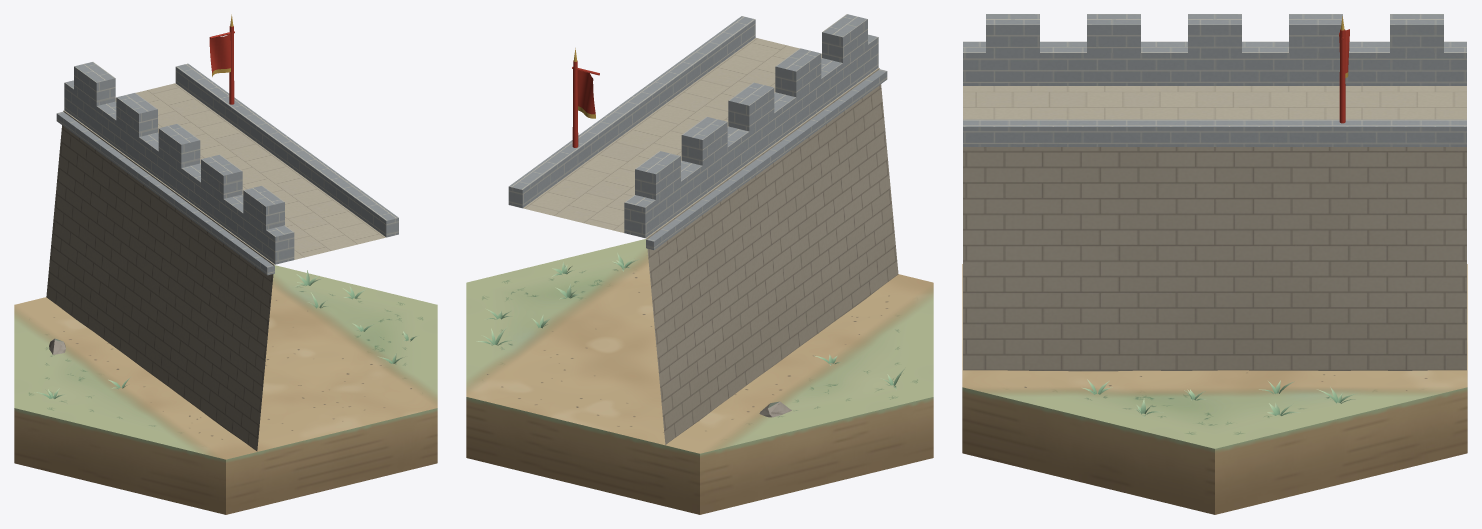
Rendered from Hex_Wall.glb.
The picture shows the model from 3 angles, left to right: view 1: azimuth 30°, elevation 25°; view 2: azimuth 150°, elevation 25°; view 3: azimuth 270°, elevation 25°; orthographic projection. The views are drawn at different scales.
Parts seen in each view (by area): view 1: Hex_Wall; view 2: Hex_Wall; view 3: Hex_Wall.
Part boxes in pixels (<box>): Hex_Wall: <box>14,14,437,514</box>; Hex_Wall: <box>466,14,933,514</box>; Hex_Wall: <box>962,14,1467,514</box>.
Bounding box in the file's own units: 8 × 6.22 × 6.93.
2 materials, 2 textured.
